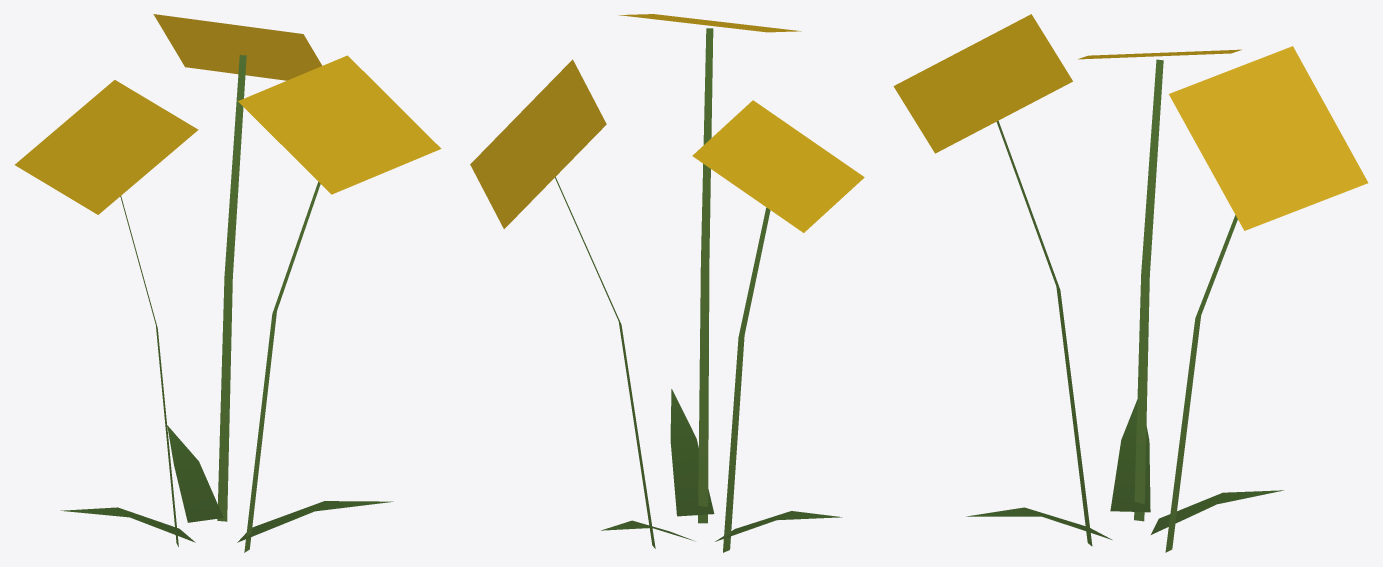
Rendered from flower.meadow.yellow.glb.
3 views of the same model, side by side, from view 1: azimuth 30°, elevation 25°; view 2: azimuth 150°, elevation 25°; view 3: azimuth 270°, elevation 25° (orthographic). The views are drawn at different scales.
Parts seen in each view (by area): view 1: flower_meadow_yellow; view 2: flower_meadow_yellow; view 3: flower_meadow_yellow.
Boxes of the visible parts, x1,y1,x2,y2 form: flower_meadow_yellow: (15, 14, 441, 552); flower_meadow_yellow: (470, 14, 864, 552); flower_meadow_yellow: (893, 14, 1368, 552).
Size of the model in its own units: 0.3003 by 0.4204 by 0.3537.
